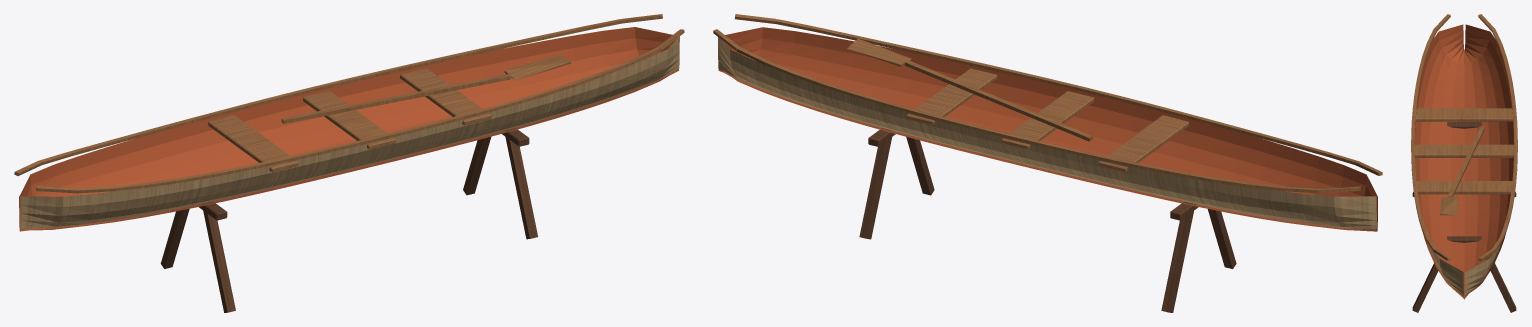
Rendered from canoa.glb.
3 renders of one model, left to right at view 1: azimuth 30°, elevation 25°; view 2: azimuth 150°, elevation 25°; view 3: azimuth 270°, elevation 25°, orthographic. The views are drawn at different scales.
Parts seen in each view (by area): view 1: canoa_casco_canoa, canoa_madeira_crua, canoa_madeira, canoa_madeira_escura; view 2: canoa_casco_canoa, canoa_madeira_crua, canoa_madeira, canoa_madeira_escura; view 3: canoa_casco_canoa, canoa_madeira, canoa_madeira_escura, canoa_madeira_crua.
Part boxes in pixels (x1,y1,x2,y2): canoa_casco_canoa: [19, 27, 678, 231]; canoa_madeira_crua: [20, 36, 679, 229]; canoa_madeira: [14, 14, 684, 193]; canoa_madeira_escura: [160, 128, 538, 312]; canoa_casco_canoa: [718, 27, 1377, 231]; canoa_madeira_crua: [718, 37, 1377, 229]; canoa_madeira: [713, 14, 1382, 193]; canoa_madeira_escura: [859, 128, 1236, 312]; canoa_casco_canoa: [1414, 24, 1514, 299]; canoa_madeira: [1411, 14, 1517, 261]; canoa_madeira_escura: [1412, 122, 1516, 312]; canoa_madeira_crua: [1428, 244, 1500, 297].
Bounding box in the file's own units: 4.8 × 1.07 × 0.87.
Materials: 4 (3 with a texture image).
